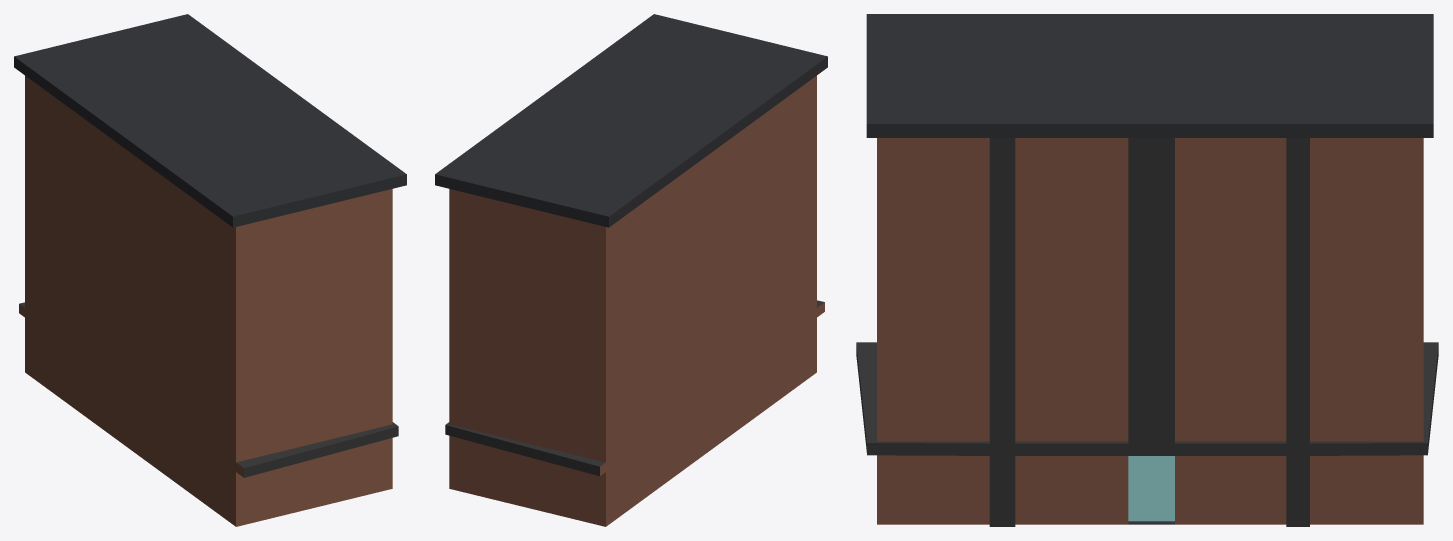
The model's file is EdificioGenérico.fbx.
3 views of the same model, side by side, from view 1: azimuth 30°, elevation 25°; view 2: azimuth 150°, elevation 25°; view 3: azimuth 270°, elevation 25° (orthographic). The views are drawn at different scales.
Parts seen in each view (by area): view 1: Cube.001, Cube.002; view 2: Cube.001, Cube.002; view 3: Cube.001, Cube.002.
Boxes of the visible parts, x1,y1,x2,y2 form: Cube.001: [19, 75, 398, 526]; Cube.002: [14, 14, 406, 227]; Cube.001: [445, 75, 824, 526]; Cube.002: [435, 14, 827, 227]; Cube.001: [856, 138, 1438, 526]; Cube.002: [866, 14, 1433, 137].
Size of the model in its own units: 1969 by 3408 by 4413.
